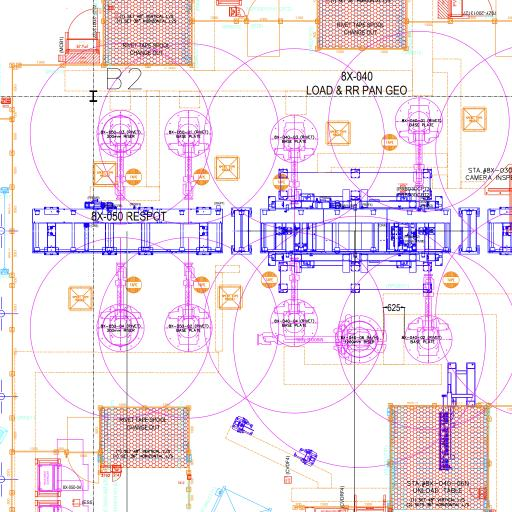robot: (254, 313, 390, 364), (93, 106, 148, 204), (392, 95, 445, 189), (402, 271, 455, 365), (269, 112, 320, 209), (162, 260, 214, 354), (94, 260, 146, 354), (163, 107, 214, 201)
